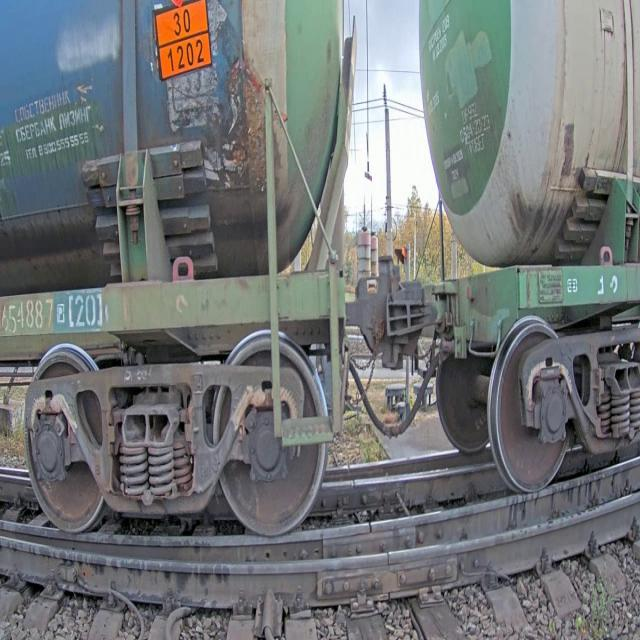tank: (0, 0, 362, 554), (411, 0, 640, 523)
